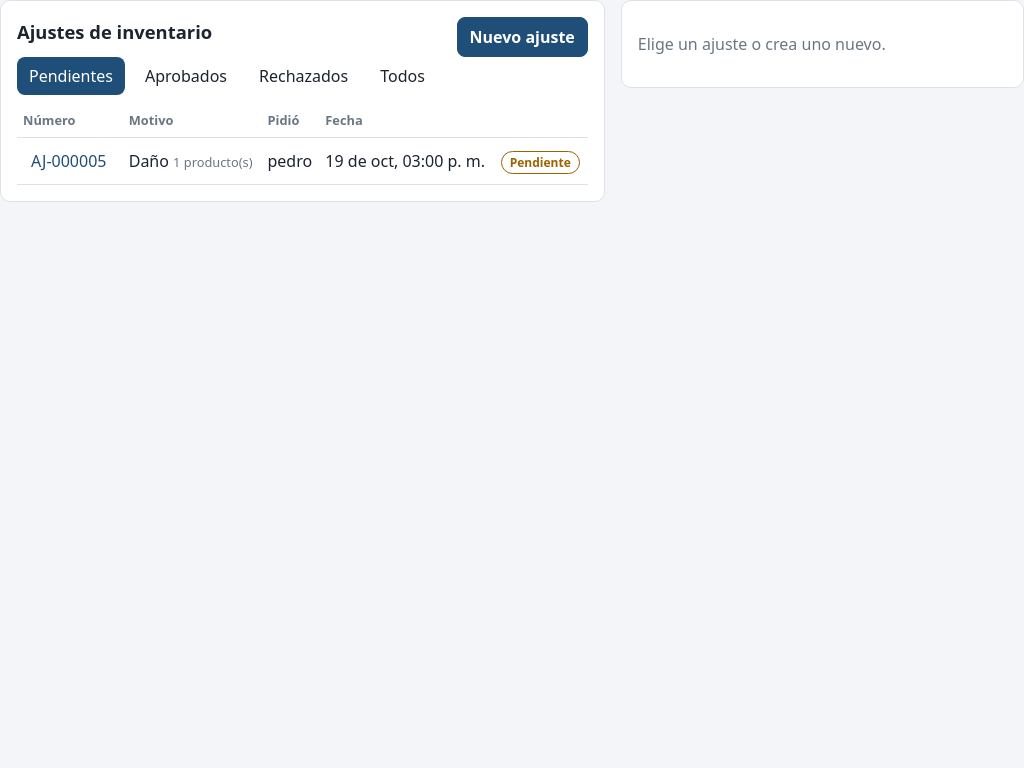
pantalla Ajustes › no ofrece servicios: no tienen inventario (spec 010)
Click the button "Nuevo ajuste" at {"x": 522, "y": 37}, box [457, 17, 588, 57]
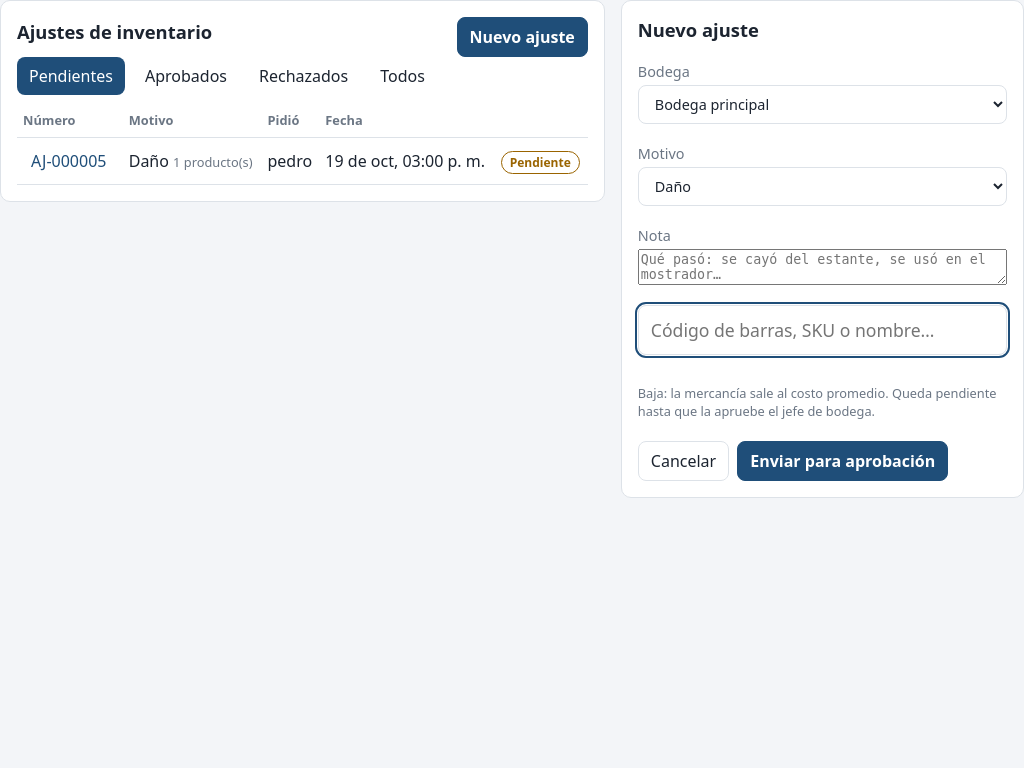
Type "lavado" into the field named "Buscar producto" at {"x": 822, "y": 330}, box [638, 305, 1007, 355]
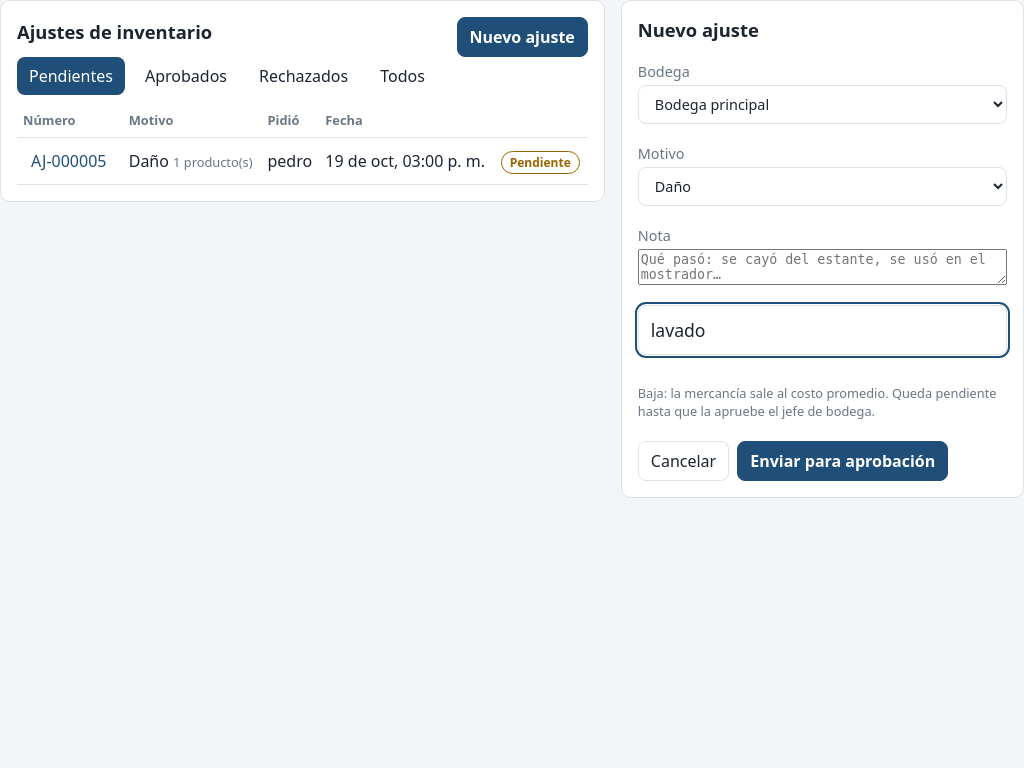
Replace the text in the field named "Buscar producto" with "martillo" at {"x": 822, "y": 330}, box [638, 305, 1007, 355]
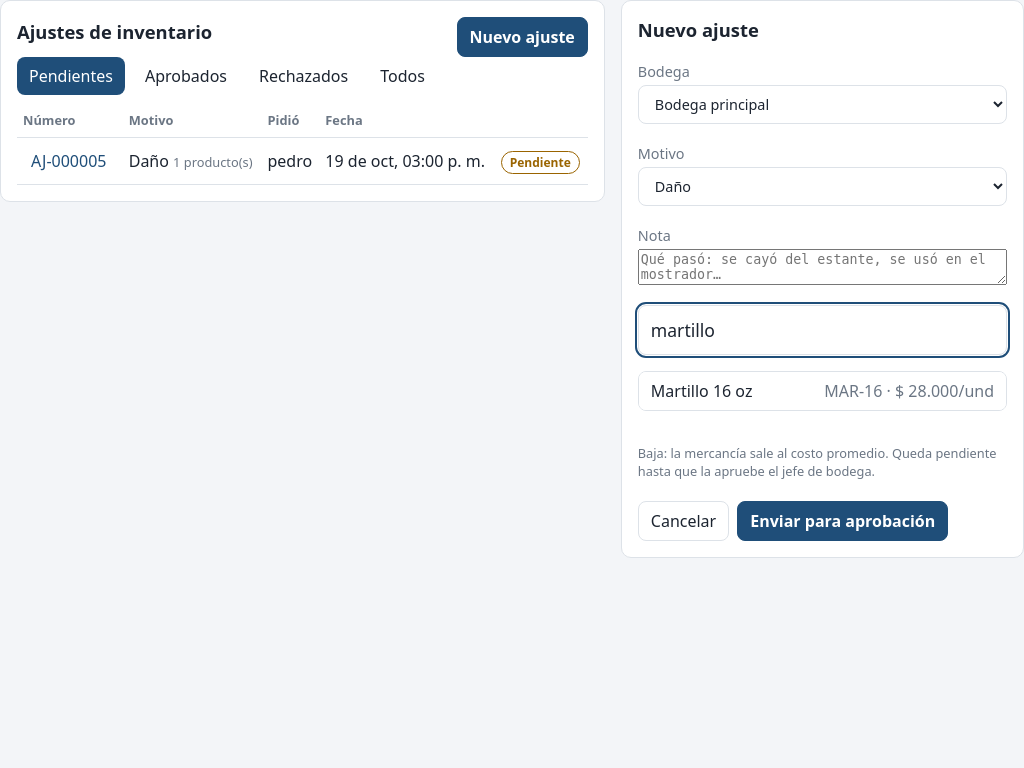
Expected: the button "Martillo 16 oz MAR-16 · $ 28.000/und" is shown, [639, 372, 1006, 410]
